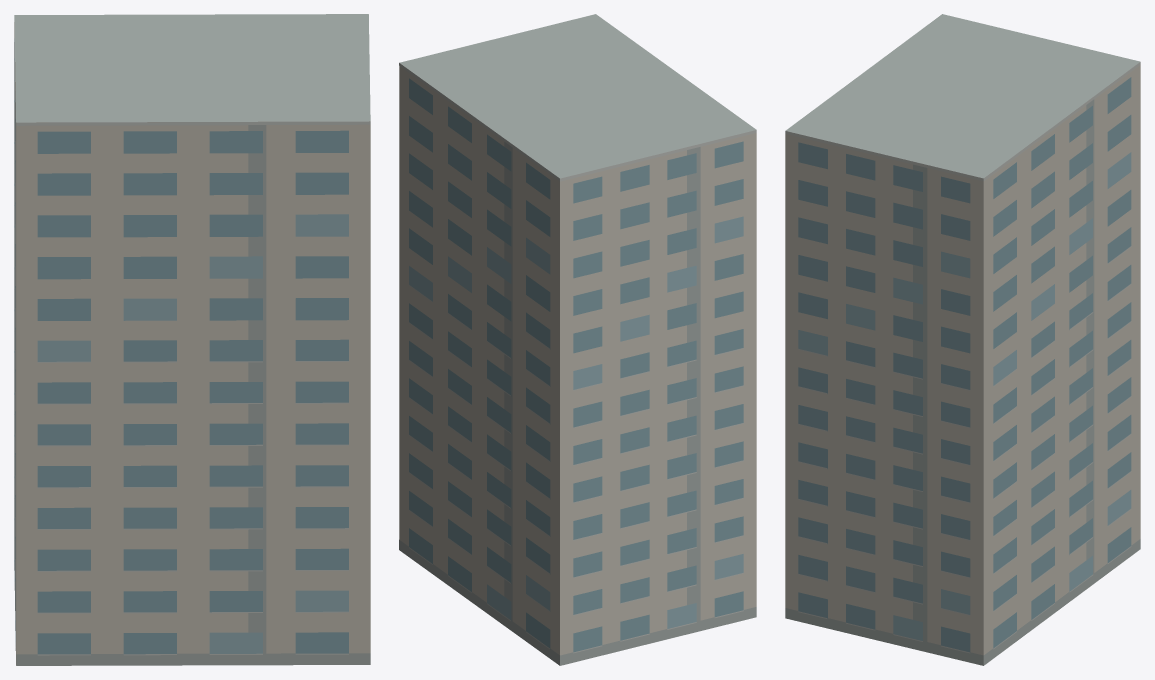
The model's file is residential-a1cf38b0-ef8d-47f8-b681-8690572207f4.glb.
3 renders of one model, left to right at view 1: azimuth 30°, elevation 25°; view 2: azimuth 150°, elevation 25°; view 3: azimuth 270°, elevation 25°, orthographic. The views are drawn at different scales.
Visible parts, largest first — view 1: residential-a1cf38b0-ef8d-47f8-b681-8690572207f4.tmp; view 2: residential-a1cf38b0-ef8d-47f8-b681-8690572207f4.tmp; view 3: residential-a1cf38b0-ef8d-47f8-b681-8690572207f4.tmp.
Part boxes in pixels (x1,y1,x2,y2): residential-a1cf38b0-ef8d-47f8-b681-8690572207f4.tmp: (14, 14, 370, 665); residential-a1cf38b0-ef8d-47f8-b681-8690572207f4.tmp: (399, 14, 756, 665); residential-a1cf38b0-ef8d-47f8-b681-8690572207f4.tmp: (785, 14, 1140, 665).
Size of the model in its own units: 28.95 by 40 by 26.44.
